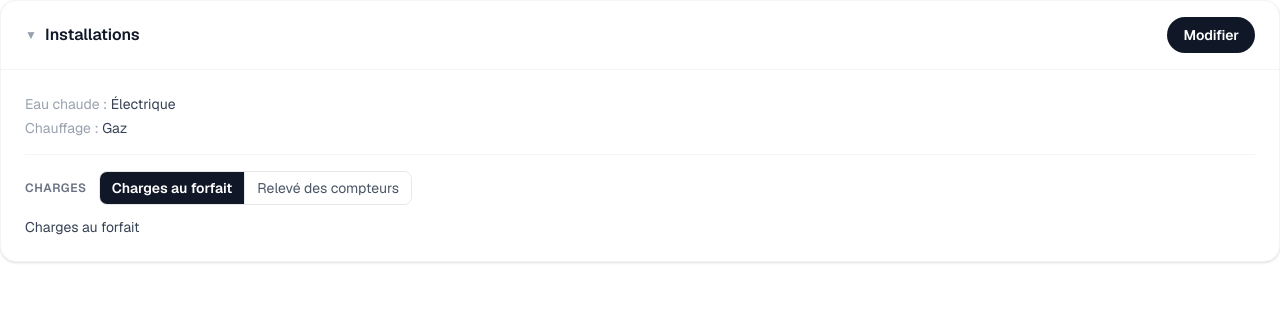
Test: ApartmentInstallationPanel — édition › ouvre le formulaire d'édition au clic sur Modifier
Click the button "Modifier". click: (1211, 35)
box: [1168,17,1255,53]
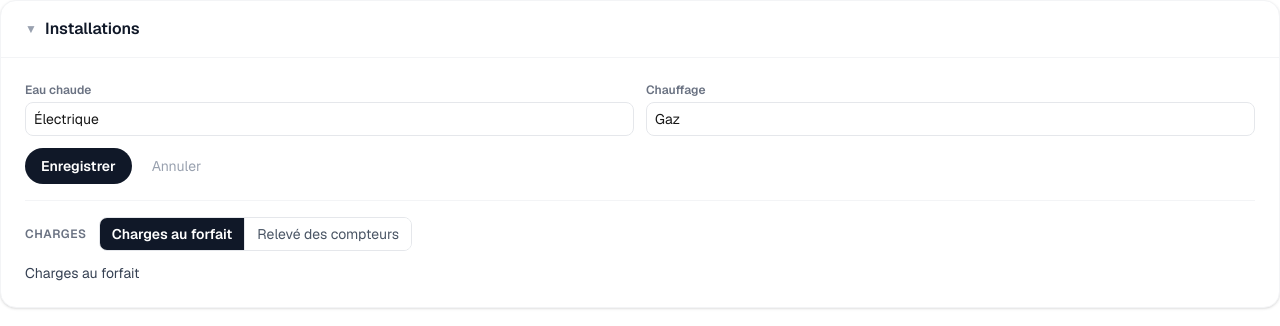
Now the button "Annuler" is shown, box [140,148,213,184]
